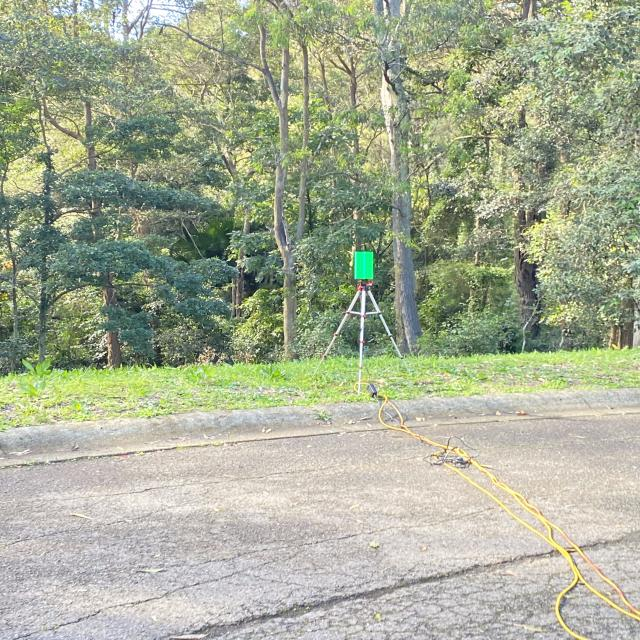matrix: (347, 248, 379, 283)
